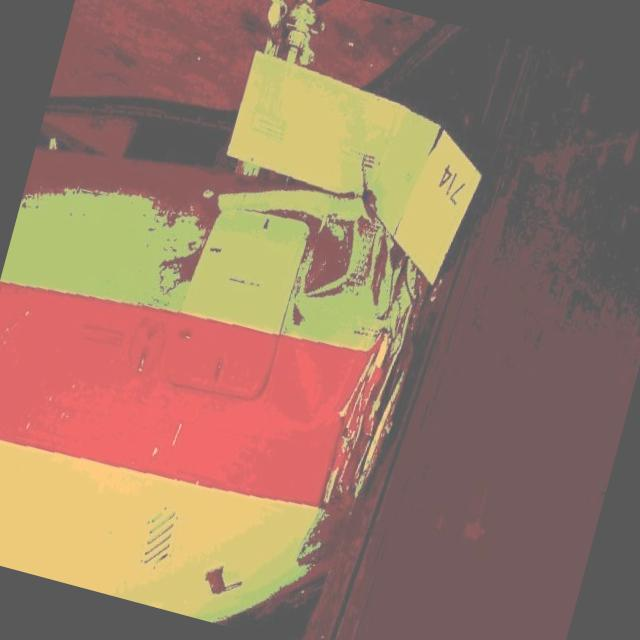dent: (262, 196, 384, 424)
